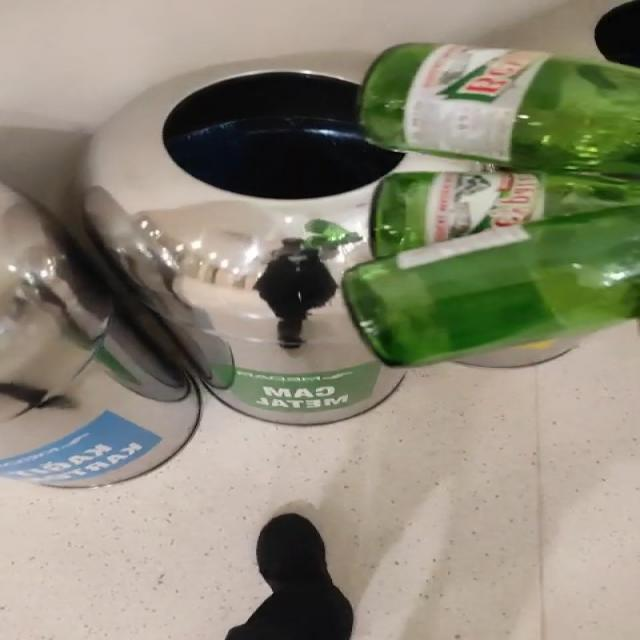bin: (81, 52, 481, 425)
glass: (343, 44, 637, 366)
